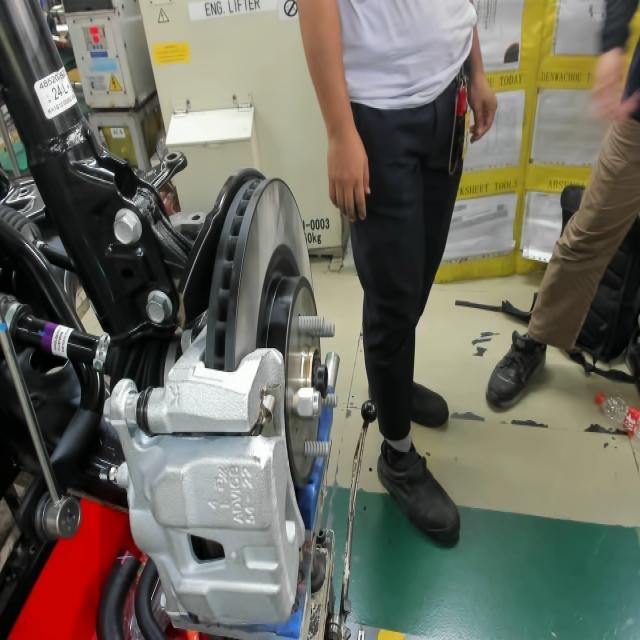Absorber LH-24: (44, 78, 75, 104)
Disc-HT: (249, 239, 328, 516)
Drive Shaft-UG: (41, 320, 77, 367)
